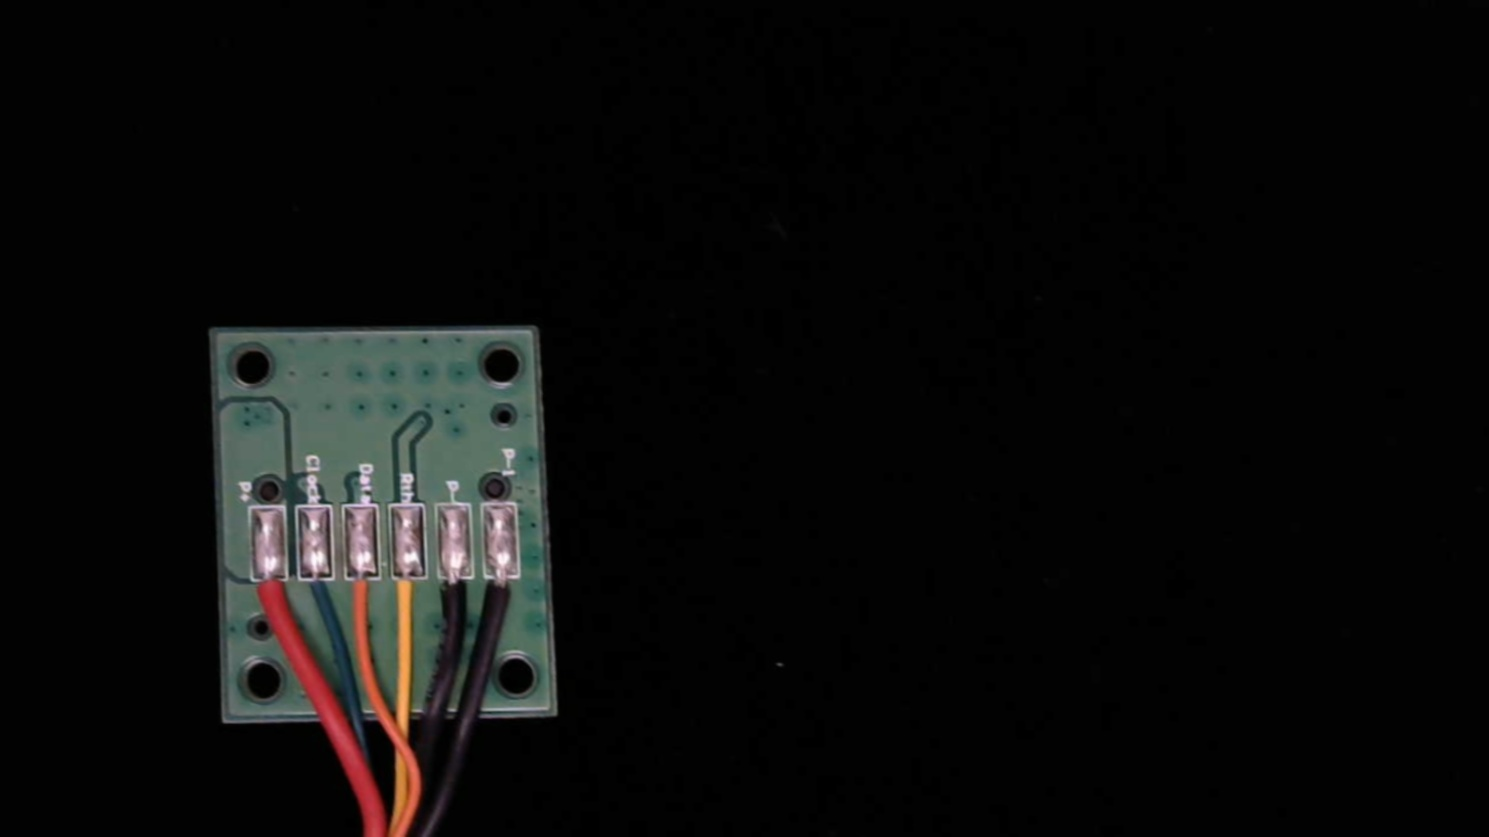Black: (438, 554, 477, 638)
Black1: (484, 558, 523, 629)
Green: (298, 557, 334, 626)
Orange: (345, 553, 382, 630)
Red: (252, 554, 291, 634)
Yellow: (393, 554, 430, 641)
